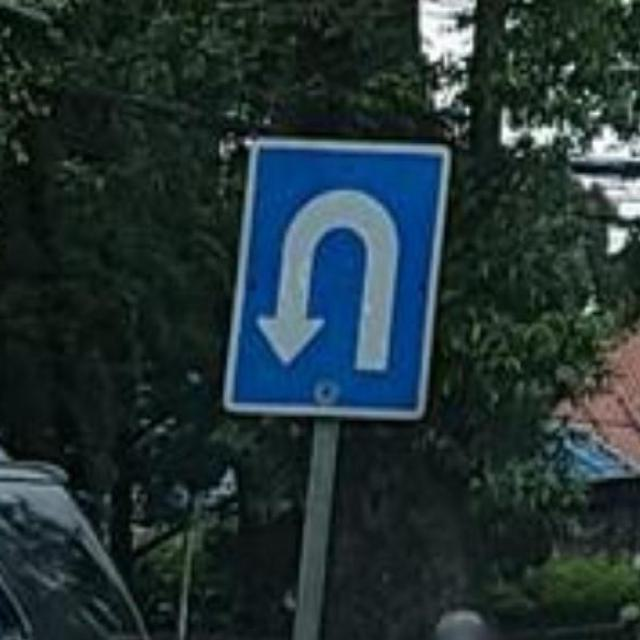U-turn: (250, 137, 421, 415)
